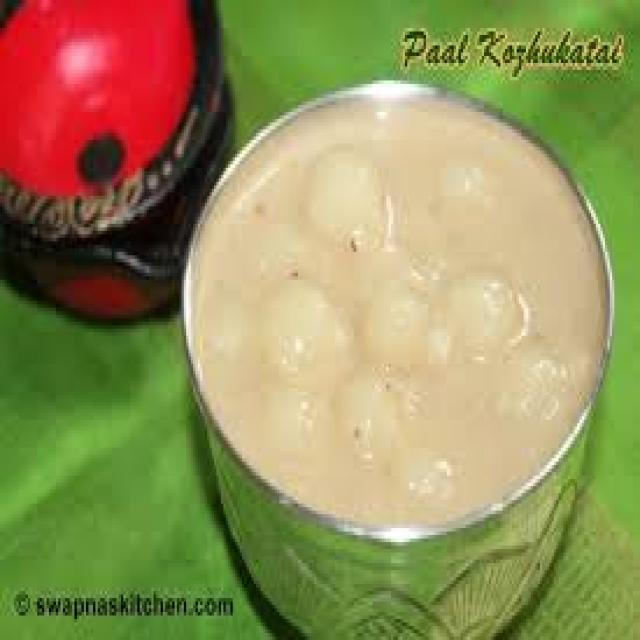paal kolukattai: (197, 74, 611, 556)
